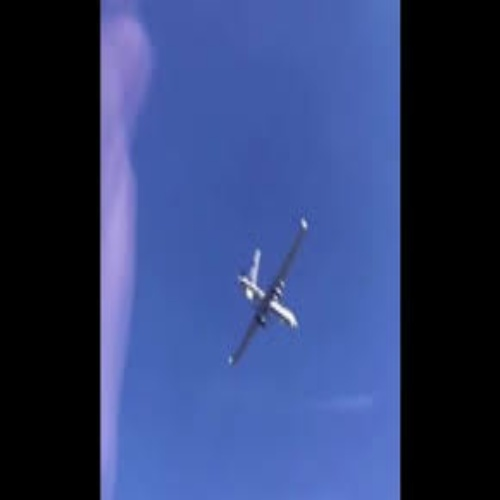uav: (224, 216, 309, 369)
